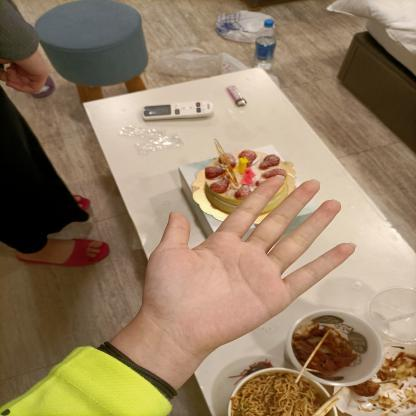bare_hand: (130, 164, 364, 363)
